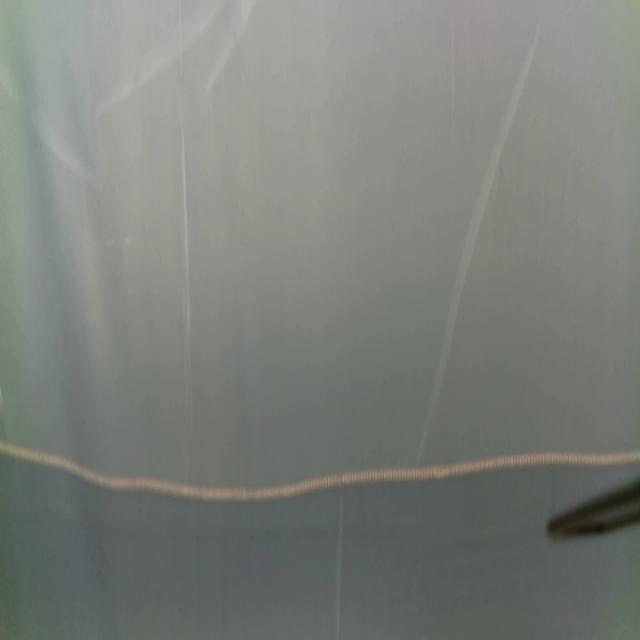crease: (414, 30, 541, 468), (97, 0, 253, 117), (0, 58, 103, 186), (180, 127, 194, 477), (332, 493, 347, 640), (449, 14, 458, 146)
